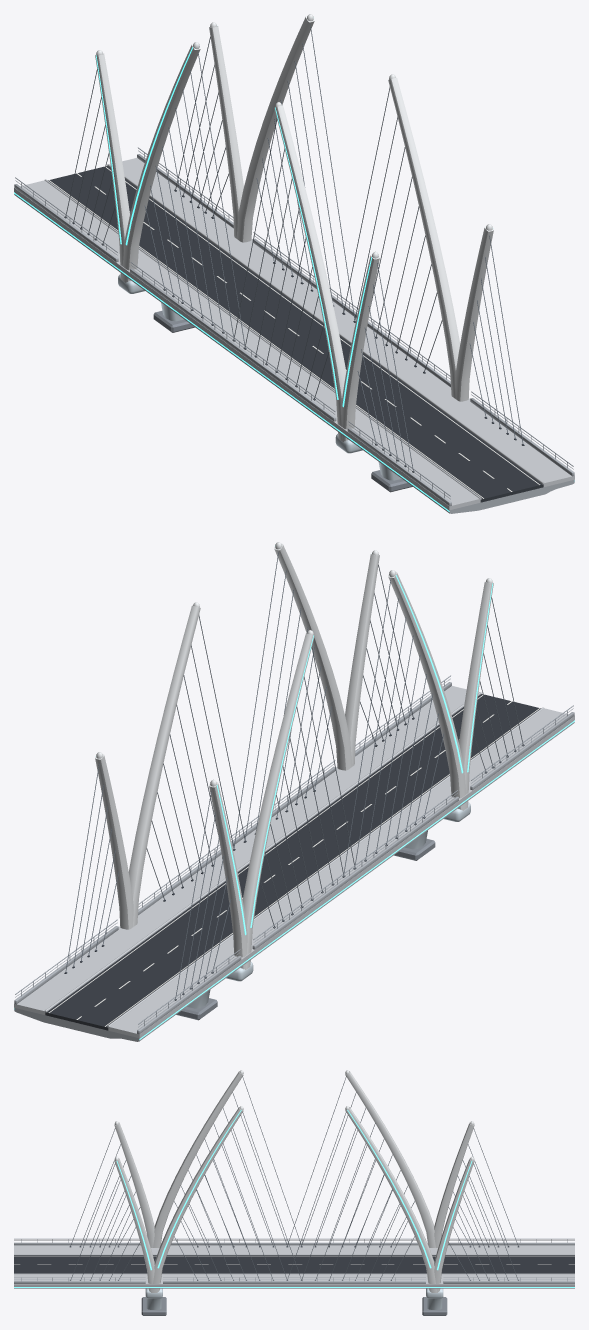
The model's file is ponte_estaiada_v.glb.
The picture shows the model from 3 angles, top to bottom: view 1: azimuth 30°, elevation 25°; view 2: azimuth 150°, elevation 25°; view 3: azimuth 270°, elevation 25°; orthographic projection. The views are drawn at different scales.
Parts seen in each view (by area): view 1: ponte_estaiada_v; view 2: ponte_estaiada_v; view 3: ponte_estaiada_v.
Boxes of the visible parts, x1=… form: ponte_estaiada_v: x1=14, y1=14, x2=574, y2=513; ponte_estaiada_v: x1=14, y1=542, x2=574, y2=1041; ponte_estaiada_v: x1=14, y1=1070, x2=574, y2=1315.
Bounding box in the file's own units: 15 × 39.09 × 90.
2 materials, 1 textured.
